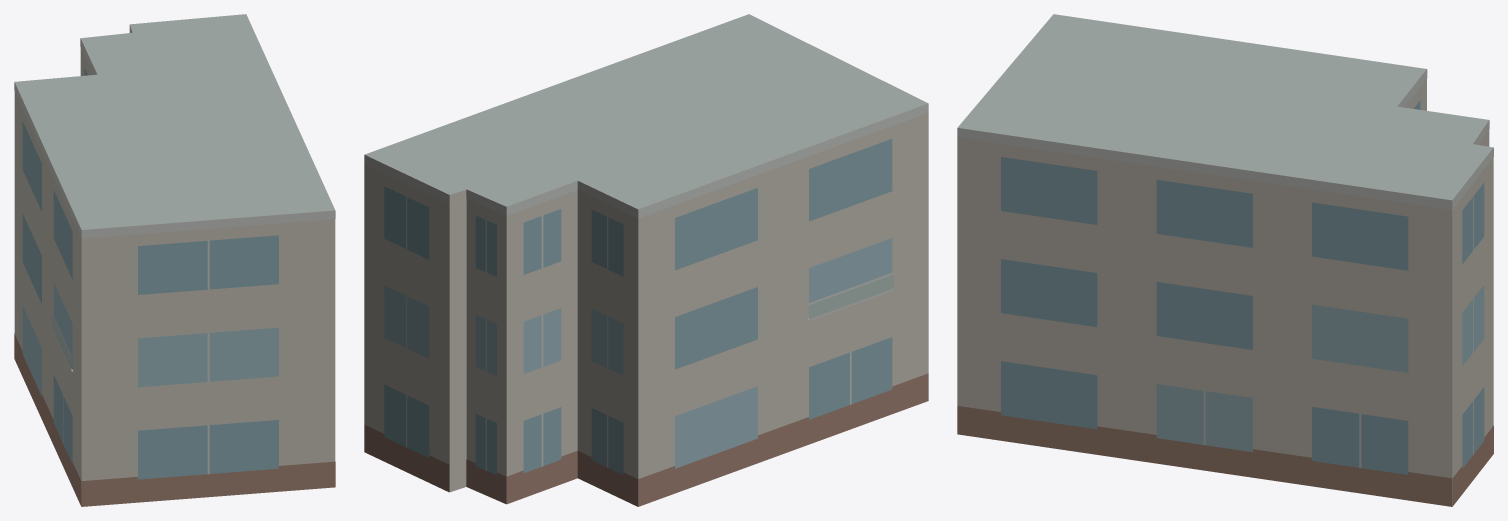
Rendered from survey-upis-32711174.glb.
3 renders of one model, left to right at view 1: azimuth 30°, elevation 25°; view 2: azimuth 150°, elevation 25°; view 3: azimuth 270°, elevation 25°, orthographic. The views are drawn at different scales.
Visible parts, largest first — view 1: survey-upis-32711174.tmp; view 2: survey-upis-32711174.tmp; view 3: survey-upis-32711174.tmp.
Part boxes in pixels (x1,y1,x2,y2): survey-upis-32711174.tmp: [14, 14, 335, 506]; survey-upis-32711174.tmp: [364, 14, 928, 506]; survey-upis-32711174.tmp: [957, 14, 1493, 506].
Bounding box in the file's own units: 10.31 × 7.9 × 12.54.
